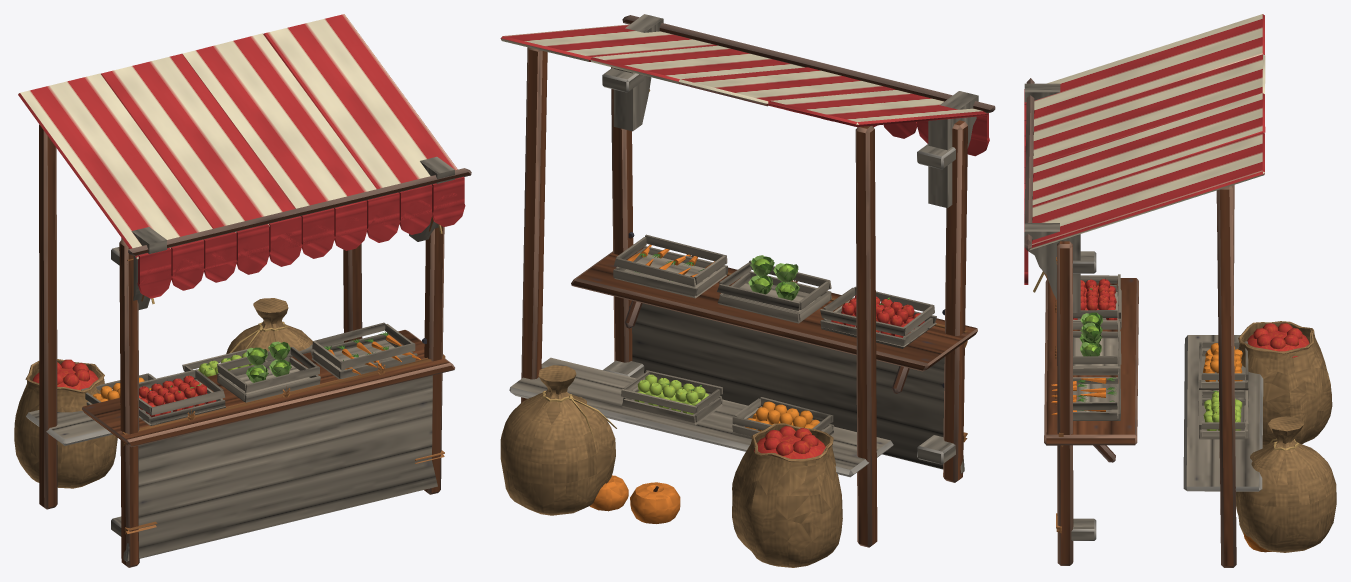
File: SM_Market_Stall_Red_LOD1.gltf
The picture shows the model from 3 angles, left to right: view 1: azimuth 30°, elevation 25°; view 2: azimuth 150°, elevation 25°; view 3: azimuth 270°, elevation 25°; orthographic projection. The views are drawn at different scales.
Visible parts, largest first — view 1: SM_Market_Stall_Red_LOD1; view 2: SM_Market_Stall_Red_LOD1; view 3: SM_Market_Stall_Red_LOD1.
Part boxes in pixels (bbox=[...]): SM_Market_Stall_Red_LOD1: bbox=[14, 14, 471, 567]; SM_Market_Stall_Red_LOD1: bbox=[500, 14, 995, 567]; SM_Market_Stall_Red_LOD1: bbox=[1024, 14, 1336, 567].
Bounding box in the file's own units: 2.52 × 2.84 × 2.01.
1 material, 1 textured.
